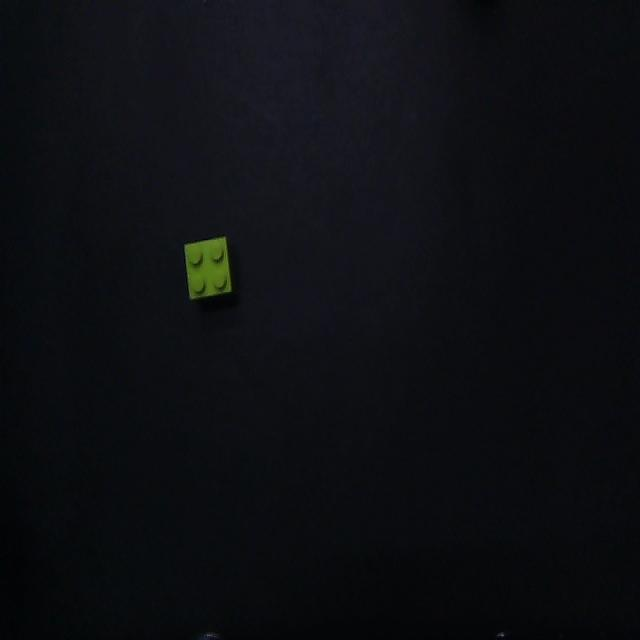lego_brick: (185, 236, 232, 299)
